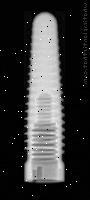Camlog: (23, 11, 65, 182)
